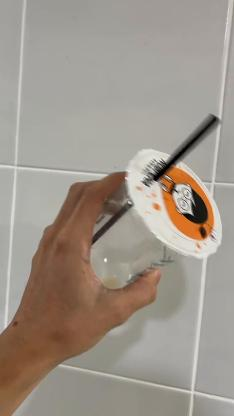Plastic Cup: (91, 149, 221, 289)
